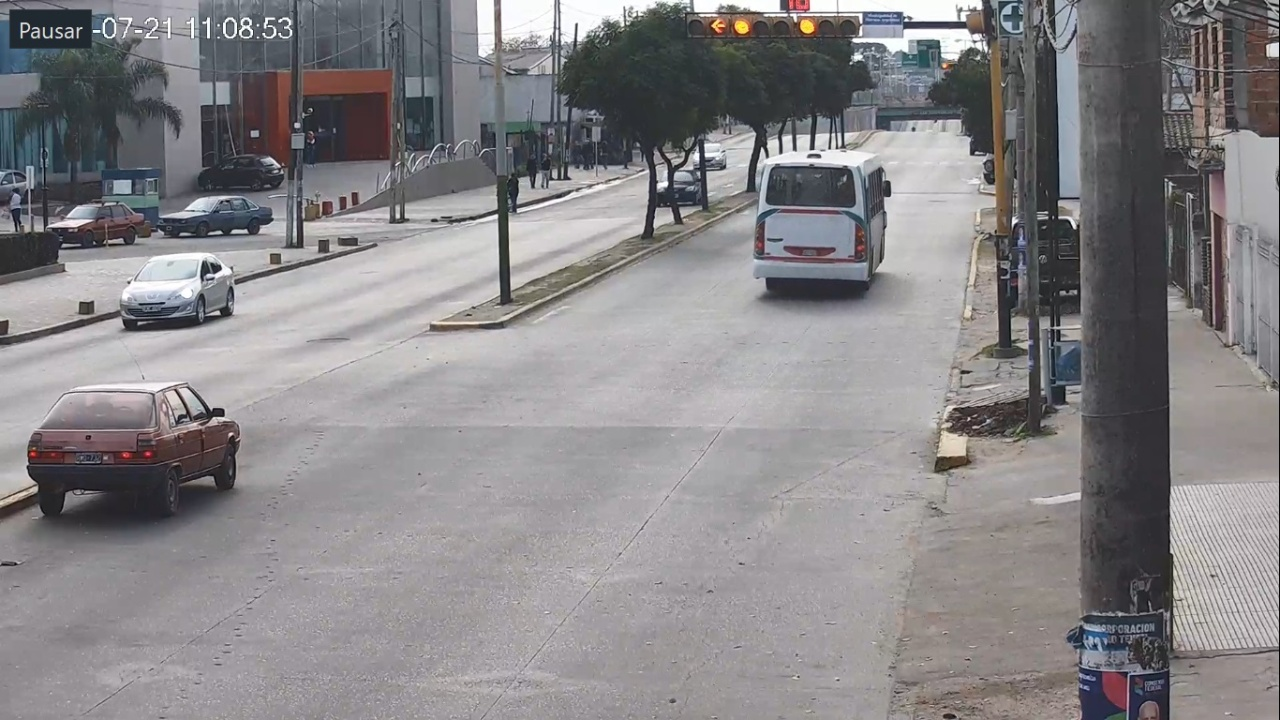bus: (753, 149, 892, 291)
car: (27, 381, 240, 517)
front car: (120, 253, 235, 329)
traffic light: (732, 13, 860, 39)
